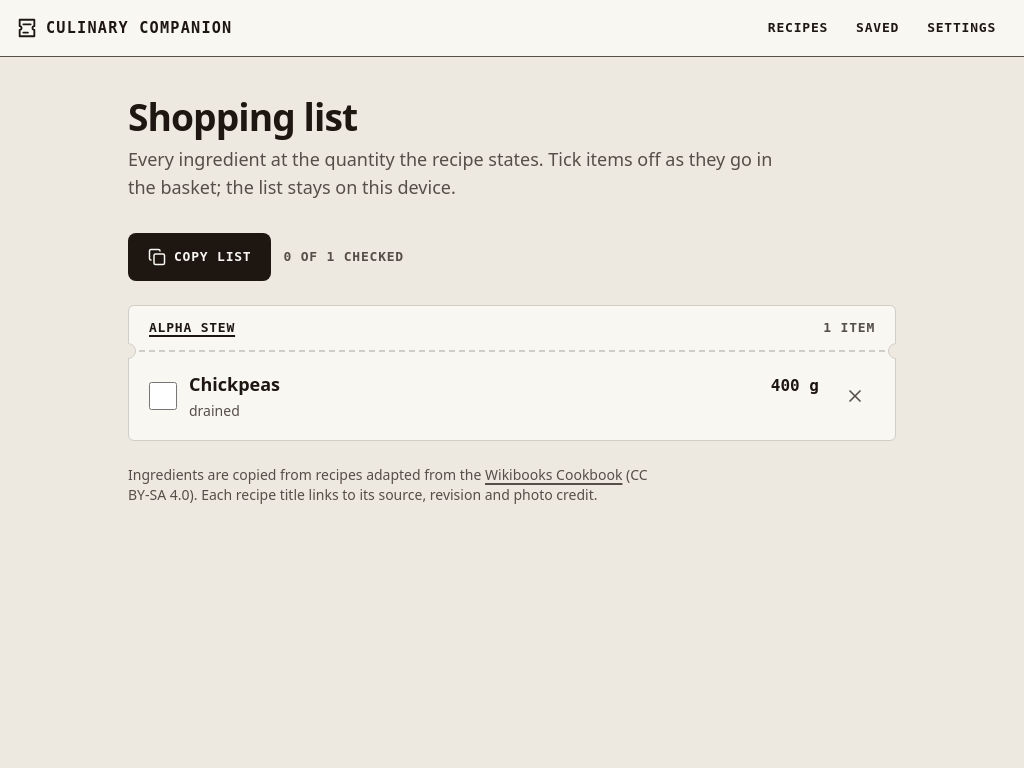
Test: ShoppingListScreen › keeps Undo available when the last item is removed, so the empty list is recoverable
The image size is (1024, 768).
Click the button named "Remove Chickpeas, 400 g from the shopping list" at {"x": 855, "y": 396}, box [827, 364, 883, 428]
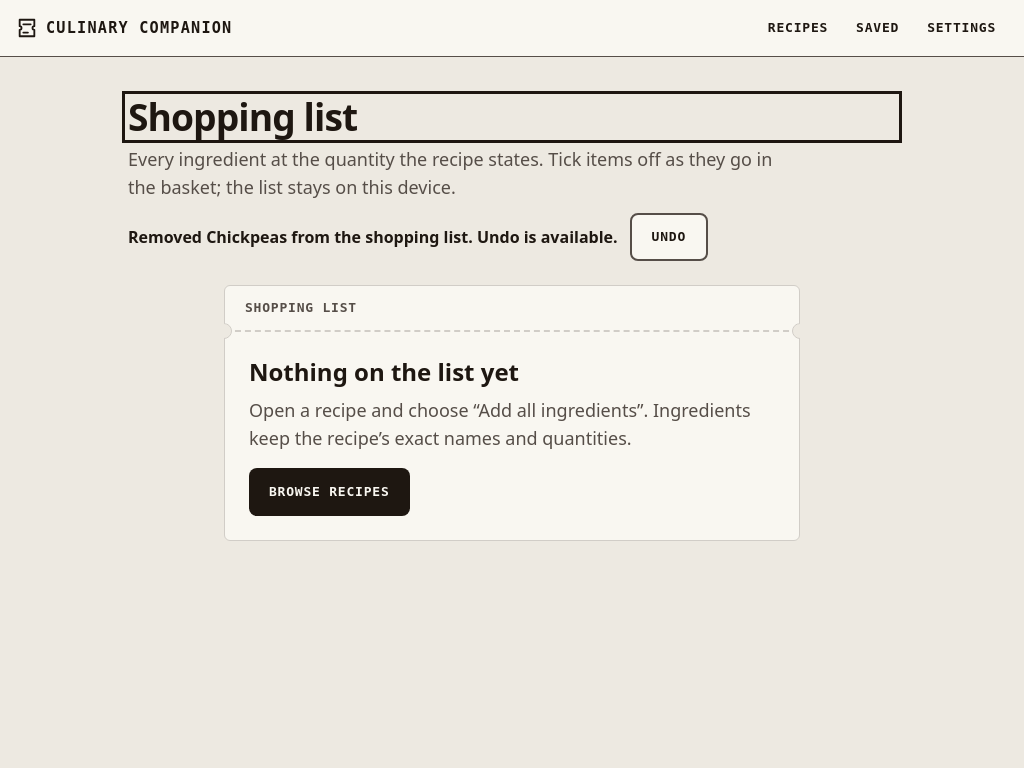
Now the heading "Nothing on the list yet" is shown, box [249, 355, 519, 388]
Now the button with aria-label "Undo removing Chickpeas from the shopping list" is shown
Click the button with aria-label "Undo removing Chickpeas from the shopping list" at {"x": 669, "y": 237}, box [630, 213, 708, 261]
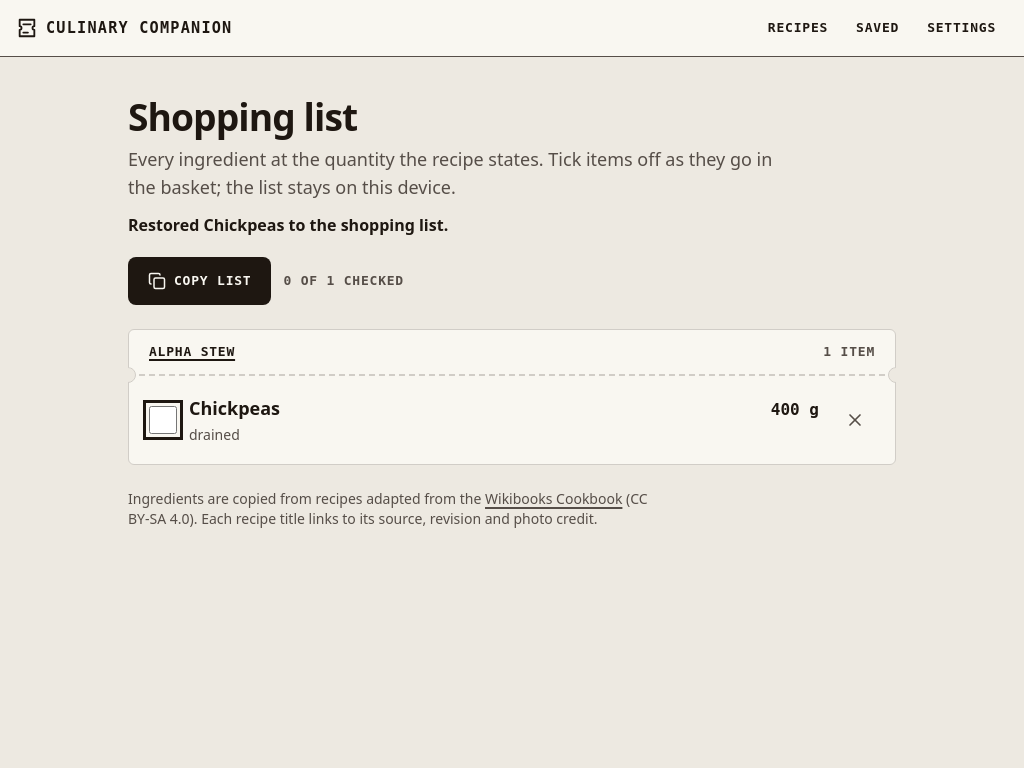
Now the heading "Nothing on the list yet" is gone
